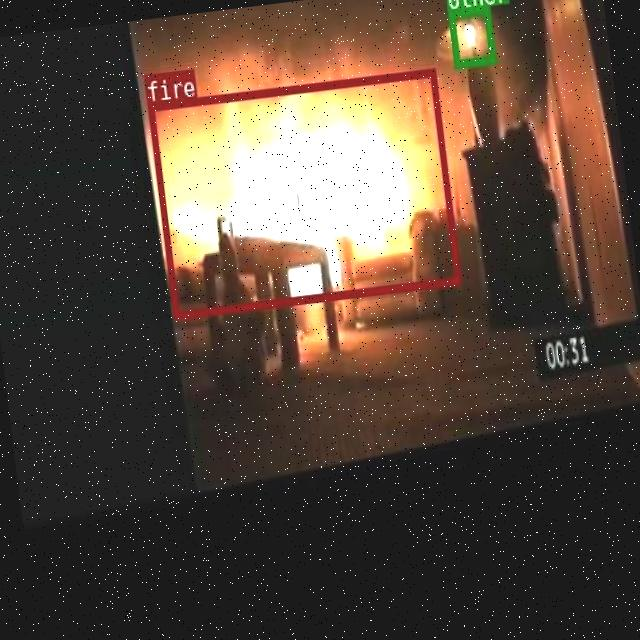fire: (146, 67, 460, 318)
